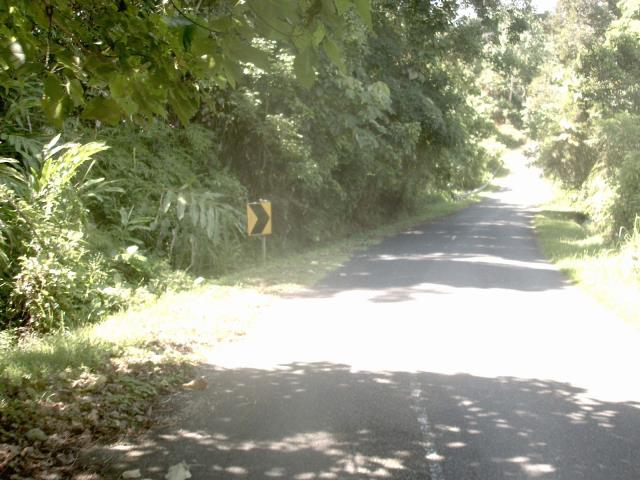traffic_sign: (239, 192, 280, 245)
